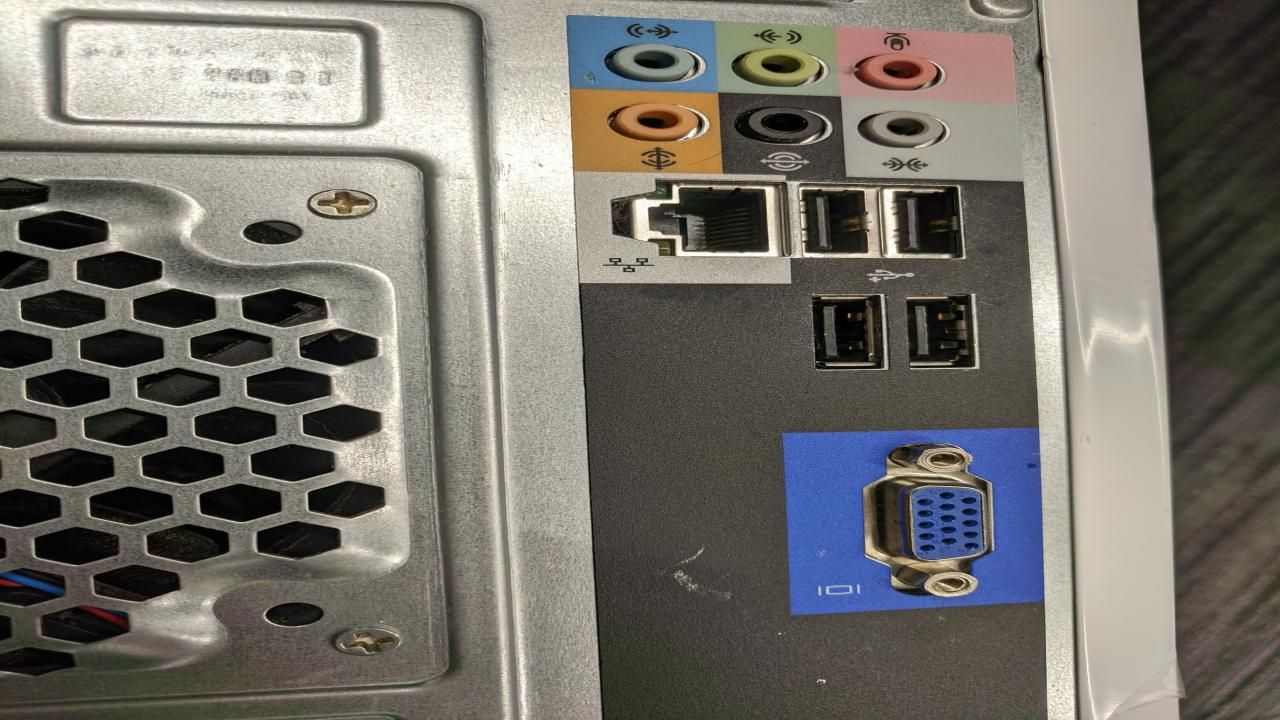CRS: (302, 188, 386, 219), (328, 626, 405, 658)
